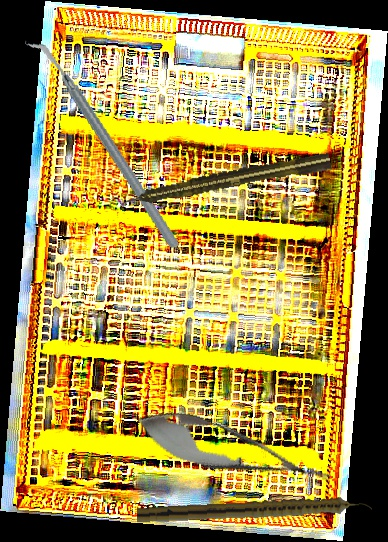Chopper: (24, 19, 181, 268)
Handpiece: (120, 150, 332, 212), (136, 494, 373, 529)
Micro Scissor: (129, 398, 338, 503)
